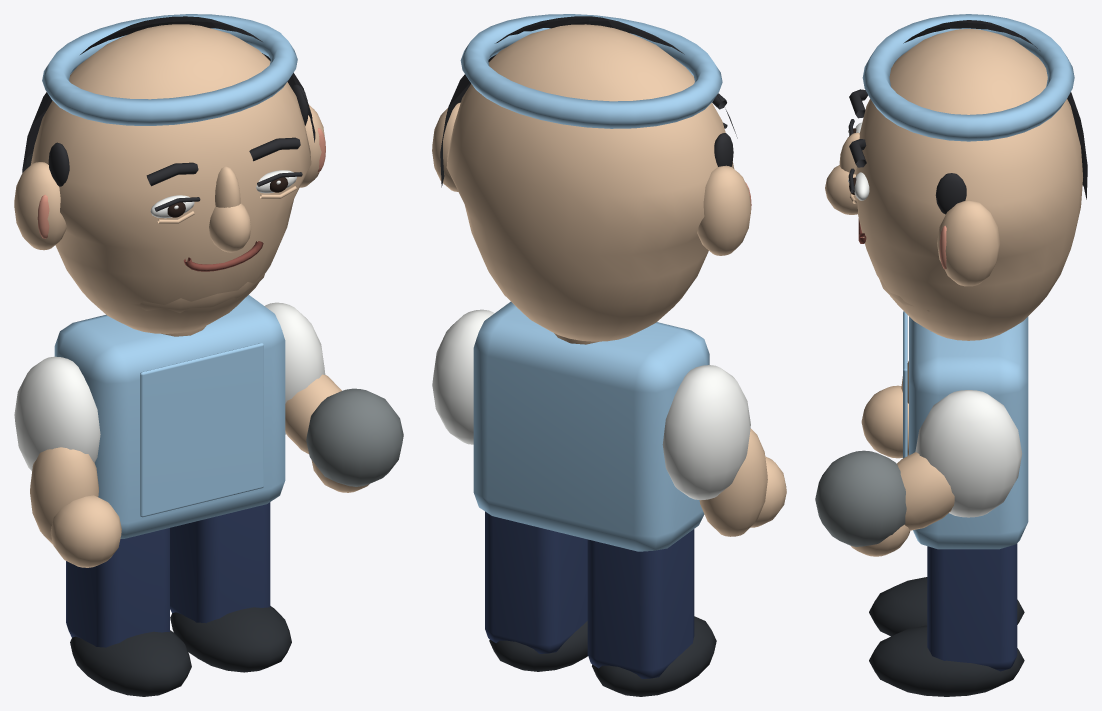
File: longlong-06.glb
3 views of the same model, side by side, from view 1: azimuth 30°, elevation 25°; view 2: azimuth 150°, elevation 25°; view 3: azimuth 270°, elevation 25° (orthographic). The views are drawn at different scales.
Visible parts, largest first — view 1: Trousers, Side-swept hair; view 2: Trousers, Side-swept hair; view 3: Trousers, Side-swept hair.
Part boxes in pixels (x1,y1,x2,y2): Trousers: [14, 14, 403, 696]; Side-swept hair: [22, 16, 315, 172]; Trousers: [432, 14, 786, 696]; Side-swept hair: [440, 16, 737, 187]; Trousers: [815, 14, 1082, 696]; Side-swept hair: [903, 20, 1087, 199].
Bounding box in the file's own units: 1.6 × 3 × 1.17.
2 materials, 2 textured.
